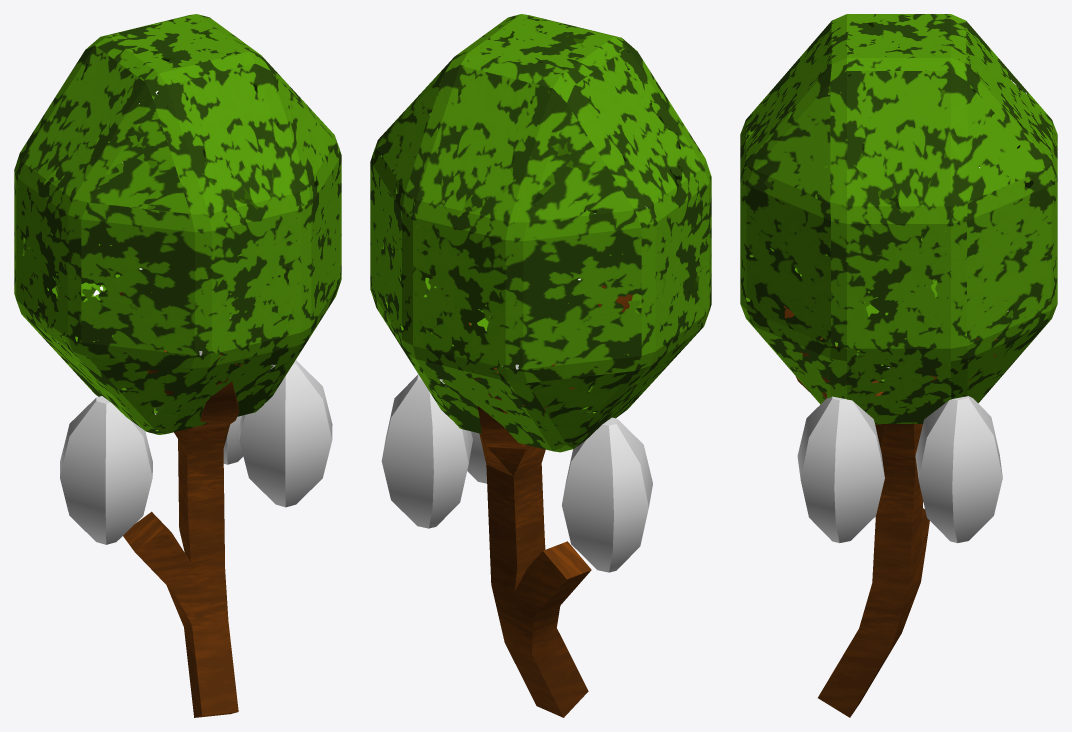
The model's file is pohon biji.fbx.
The picture shows the model from 3 angles, left to right: view 1: azimuth 30°, elevation 25°; view 2: azimuth 150°, elevation 25°; view 3: azimuth 270°, elevation 25°; orthographic projection. The views are drawn at different scales.
Visible parts, largest first — view 1: tree with seeds; view 2: tree with seeds; view 3: tree with seeds.
Part boxes in pixels (x1,y1,x2,y2): tree with seeds: (14,14,341,717); tree with seeds: (370,14,711,717); tree with seeds: (740,14,1057,717).
Size of the model in its own units: 738 by 1711 by 738.
2 materials, 1 textured.
